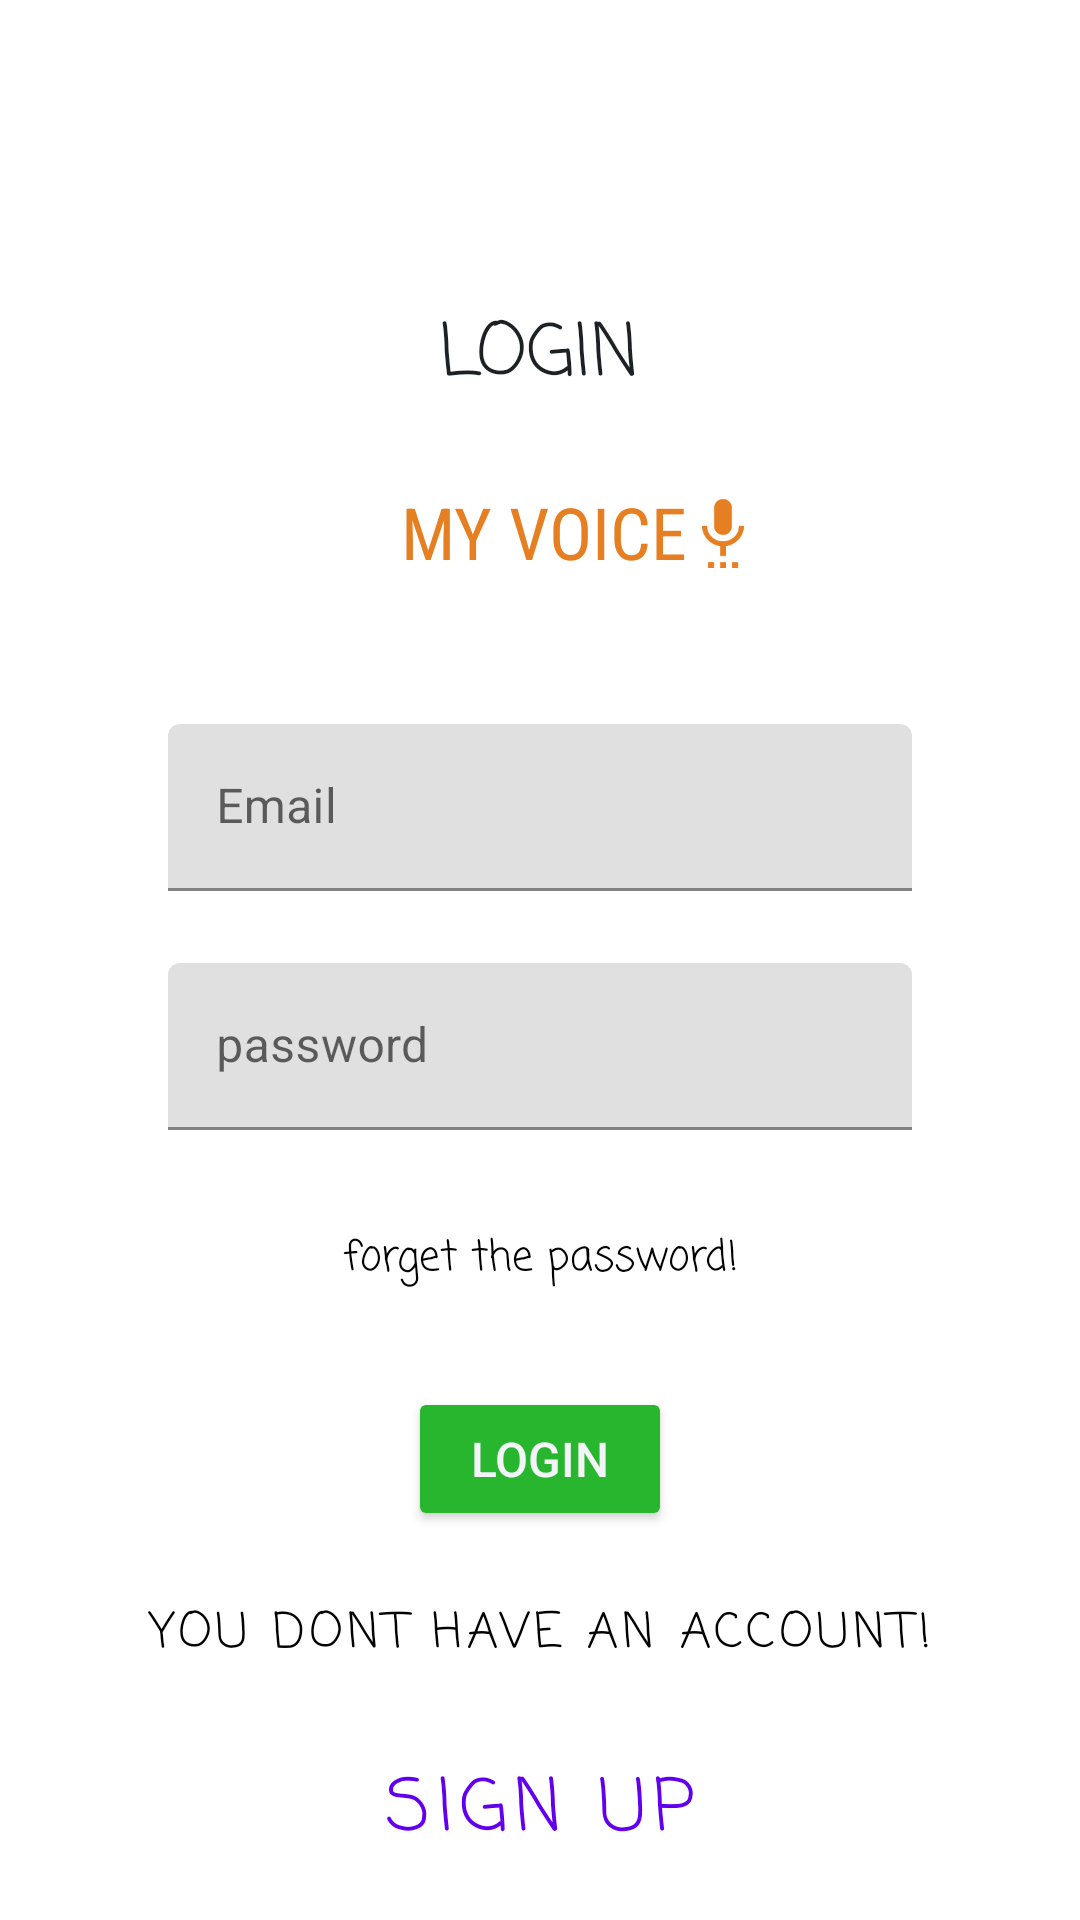

Named icons in this screenshot (1080x1920) and their centers, [x,y]:
settings voice: [723,533]
